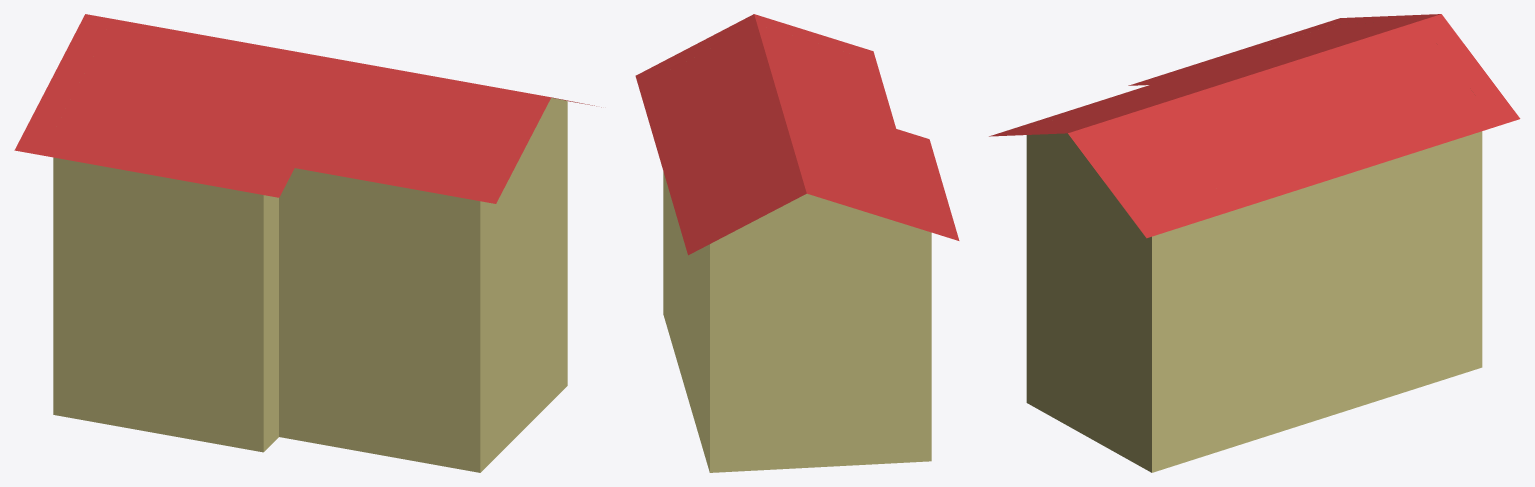
The picture shows the model from 3 angles, left to right: view 1: azimuth 30°, elevation 25°; view 2: azimuth 150°, elevation 25°; view 3: azimuth 270°, elevation 25°; orthographic projection. The views are drawn at different scales.
Bounding box in the file's own units: 9.53 × 9.73 × 6.29.
